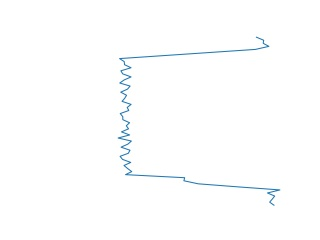distributaryChannelFill: (114, 36, 284, 206)
